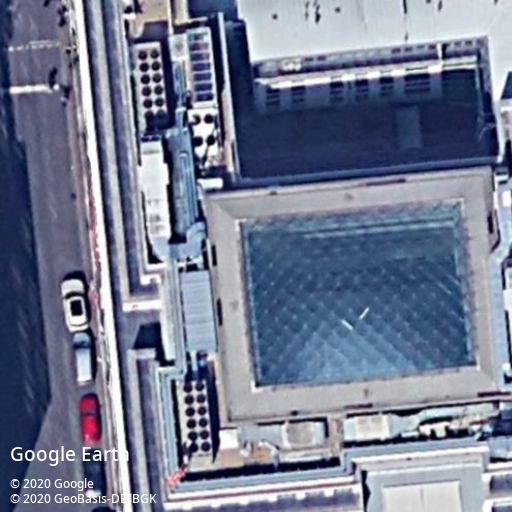Chiller: (130, 40, 169, 126), (177, 376, 216, 462), (187, 105, 222, 159)
